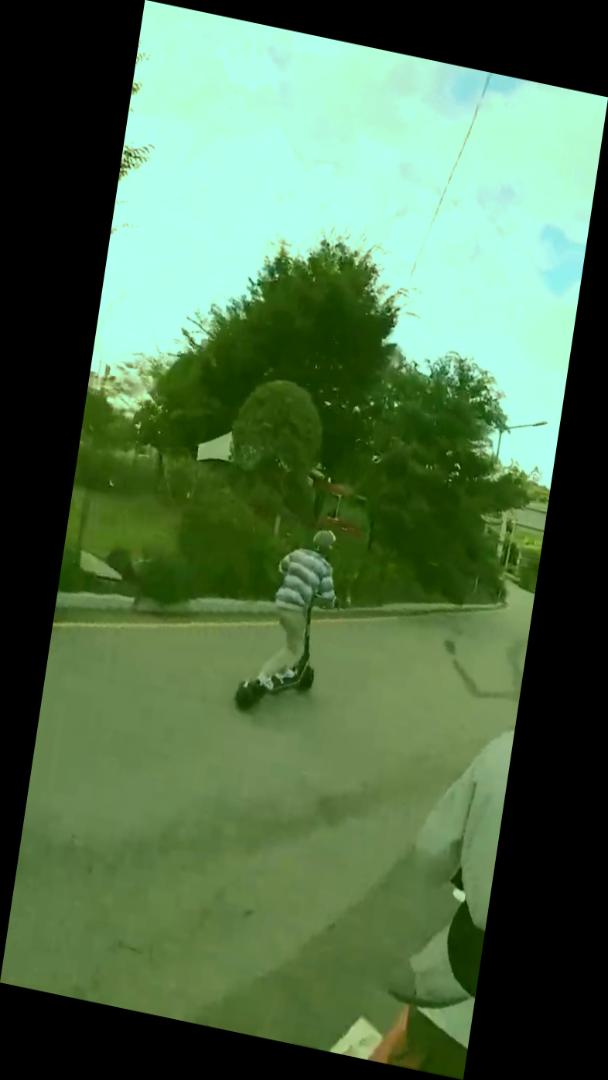helmet: (228, 513, 352, 732)
